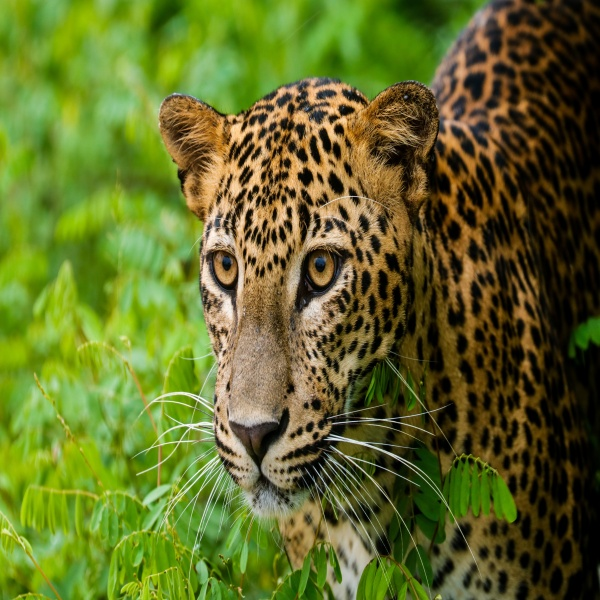Leopard: (155, 1, 600, 598)
